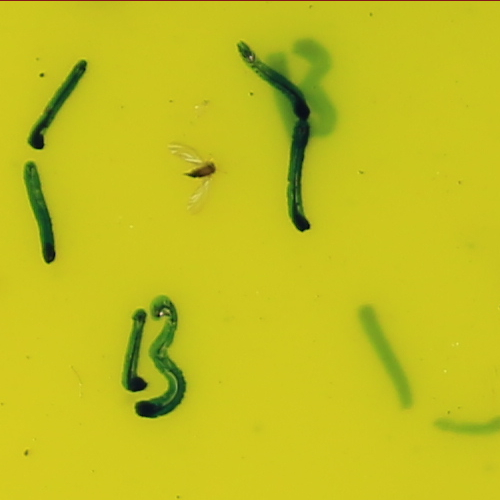psylla: (185, 158, 216, 182)
